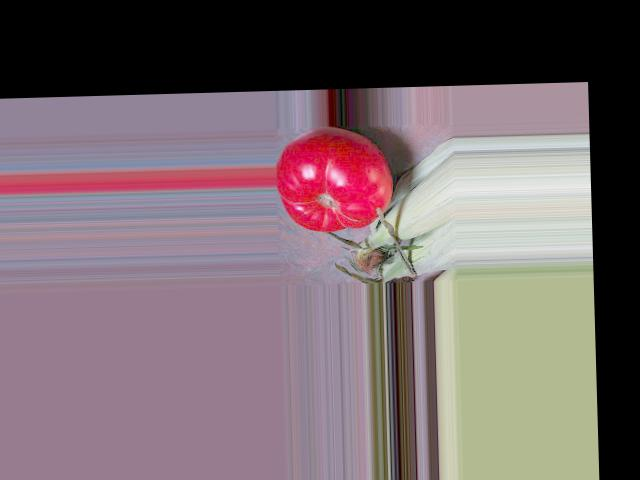tomato: (275, 125, 394, 233)
